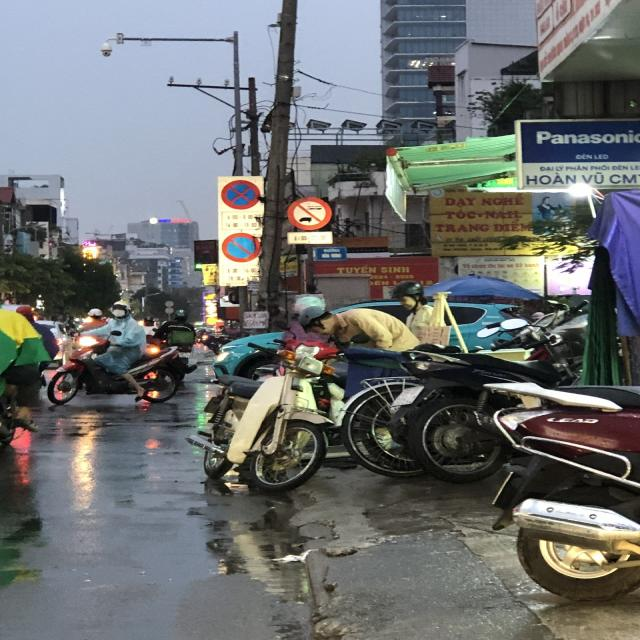Bien bao cam dung xe va do xe: (215, 177, 262, 211)
Bien bao cam xe oto khach va xe oto tai: (286, 193, 335, 232)
